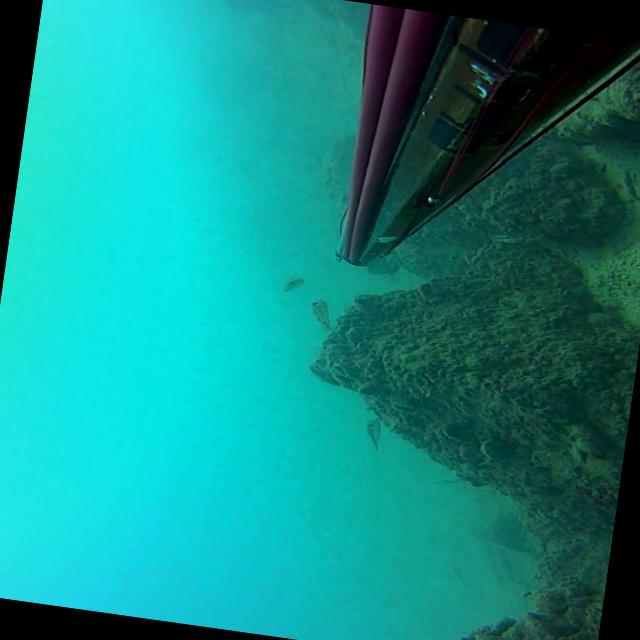Balon Baligi: (307, 298, 340, 332), (362, 419, 382, 451), (280, 276, 304, 295), (449, 565, 468, 587)
